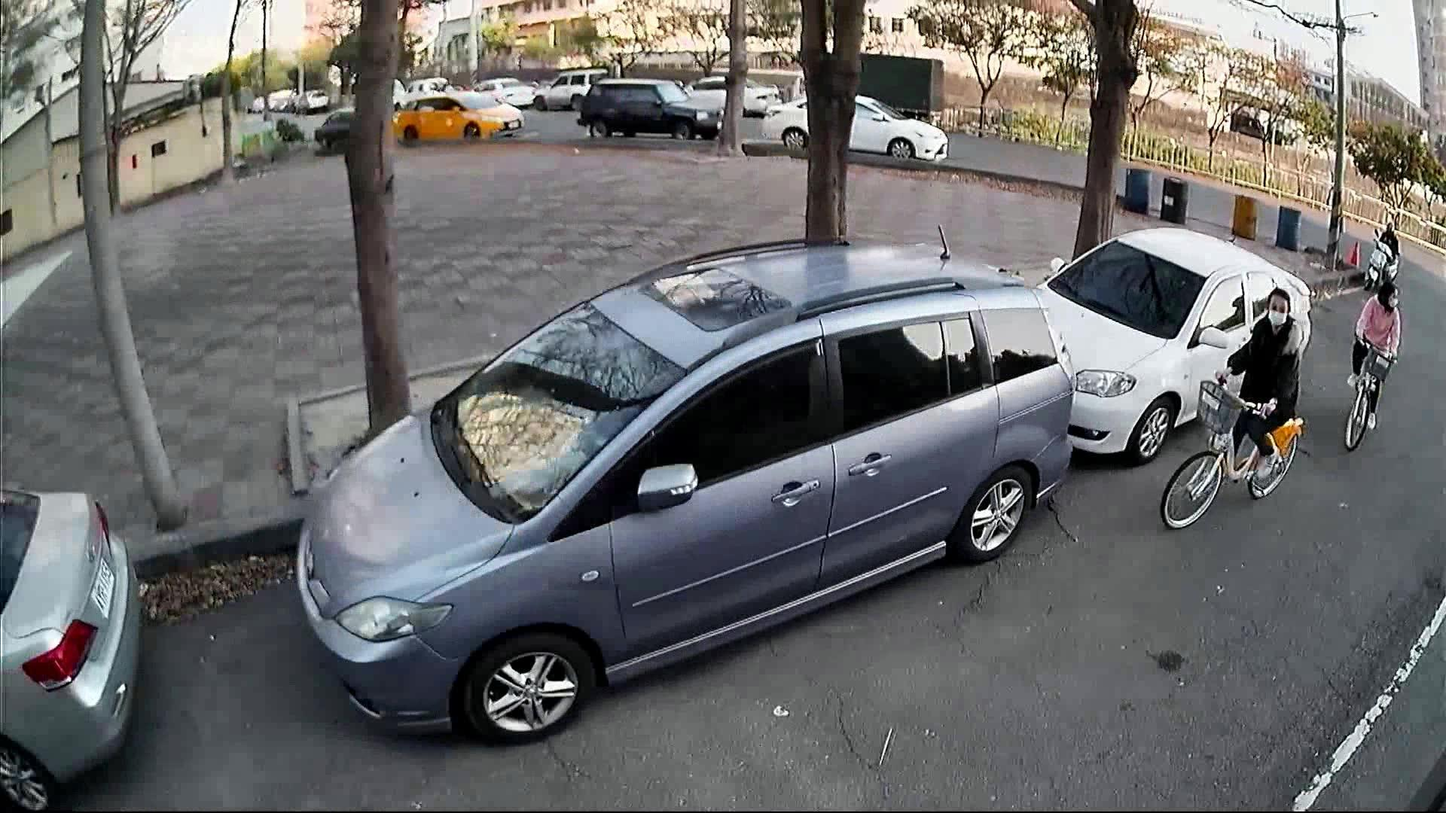person: (1211, 279, 1310, 489), (1342, 271, 1407, 434), (1374, 215, 1405, 265)
